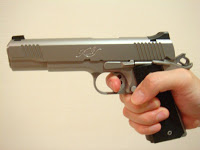gun: (3, 30, 198, 148)
